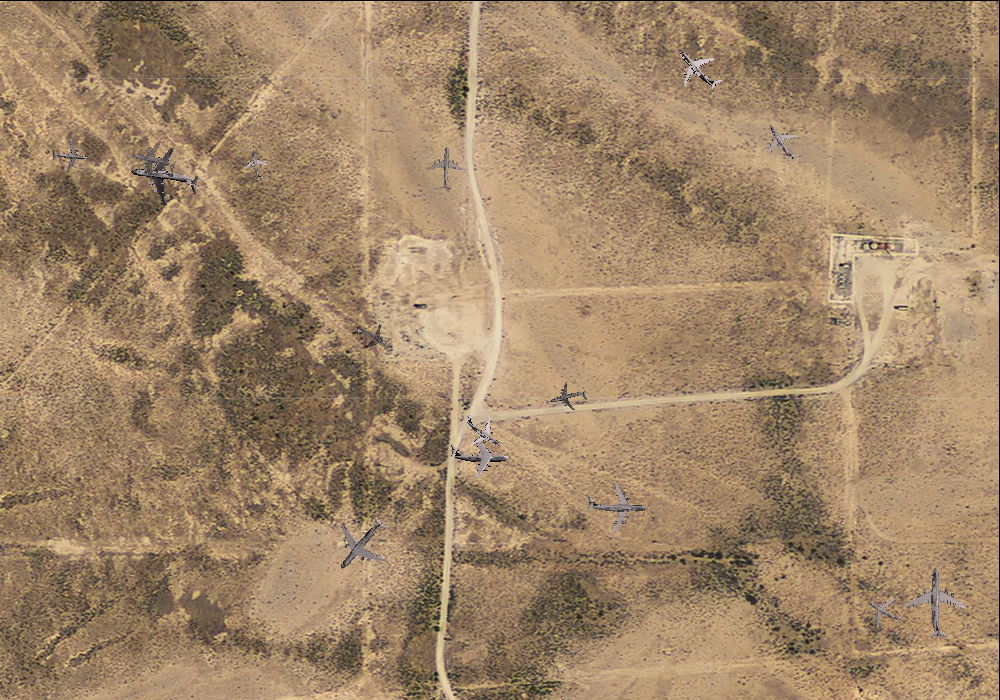plane: (318, 501, 404, 588), (126, 141, 202, 214), (903, 567, 971, 639), (664, 34, 733, 103), (586, 476, 648, 535), (453, 402, 512, 460), (754, 114, 810, 170), (449, 430, 509, 480), (125, 134, 180, 187), (345, 312, 398, 364), (859, 586, 910, 636), (424, 145, 467, 190), (546, 376, 590, 419), (49, 137, 88, 174), (239, 147, 273, 182)
